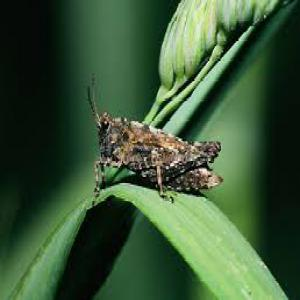locust: (76, 70, 250, 204)
